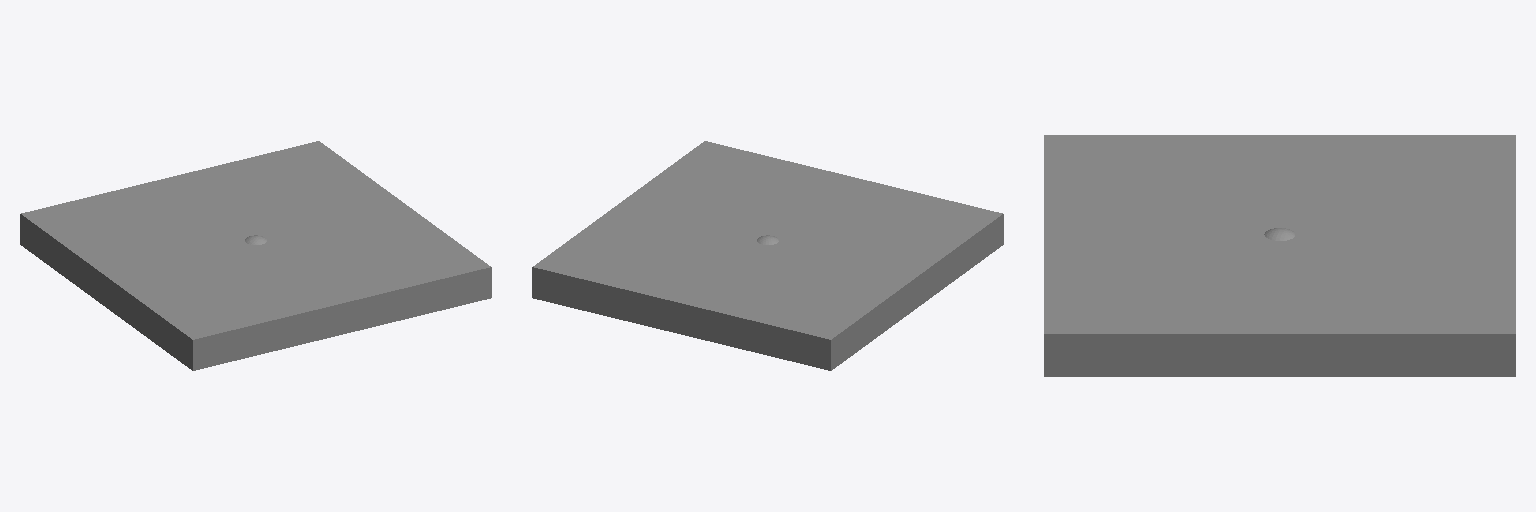
URDF robot description (leaf_v1x10):
<?xml version="1.0" ?>
<!-- =================================================================================== -->
<!-- |    This document was autogenerated by xacro from [local-path]/dev/nyu_finger/workspace/src/catkin/robots/robot_properties/robot_properties_fingers/xacro/edu/fingeredu.urdf.xacro | -->
<!-- |    EDITING THIS FILE BY HAND IS NOT RECOMMENDED                                 | -->
<!-- =================================================================================== -->
<robot name="leaf_v1x10" xmlns:xacro="https://ei.is.tuebingen.mpg.de/xacro">
  <material name="fingeredu_material">
    <color rgba="0.6 0.6 0.6 1.0"/>
  </material>
  <link name="base_link">
    <visual>
      <origin rpy="0 0 0" xyz="0 0 0"/>
      <geometry>
        <mesh filename="package://example-robot-data/robots/guesss_description/meshes/spherex30.obj" scale="1 1 1"/>
      </geometry>
      <material name="fingeredu_material"/>
    </visual>
    <collision>
      <origin rpy="0 0 0" xyz="0 0 0"/>
      <geometry>
        <mesh filename="package://example-robot-data/robots/guesss_description/meshes/spherex30.obj" scale="1 1 1"/>
      </geometry>
    </collision>
    <inertial>
      <origin rpy="0 0 0" xyz="0 0 0"/>
      <mass value="1.1637e3"/>
      <inertia ixx="2.79e2" ixy="0." ixz="0." iyy="2.79e2" iyz="0." izz="2.79e2"/>
    </inertial>
  </link>
  <link name="small_fish">
    <visual>
      <origin rpy="0 0 0" xyz="0 0 0"/>
      <geometry>
        <mesh filename="package://example-robot-data/robots/guesss_description/meshes/ellipse_10.obj" scale="1 1 1"/>
      </geometry>
      <material name="fingeredu_material"/>
    </visual>
    <collision>
      <origin rpy="0 0 0" xyz="0 0 0"/>
      <geometry>
        <mesh filename="package://example-robot-data/robots/guesss_description/meshes/ellipse_10.obj" scale="1 1 1"/>
      </geometry>
    </collision>
    <inertial>
      <origin rpy="0 0 0" xyz="0 0 0"/>
      <mass value="6.47"/>
      <inertia ixx="7.06e-2" ixy="0." ixz="0." iyy="1.36e-1" iyz="0." izz="7.06e-2"/>
    </inertial>
  </link>
  <link name="floor">
    <visual>
      <origin rpy="0 0 0" xyz="0 0 0"/>
      <geometry>
        <mesh filename="package://example-robot-data/robots/guesss_description/meshes/floor_v0x10.obj" scale="1 1 1"/>
      </geometry>
      <material name="fingeredu_material"/>
    </visual>
    <collision>
      <origin rpy="0 0 0" xyz="0 0 0"/>
      <geometry>
        <mesh filename="package://example-robot-data/robots/guesss_description/meshes/floor_v0x10.obj" scale="1 1 1"/>
      </geometry>
    </collision>
    <inertial>
      <origin rpy="0 0 0" xyz="0 0 0"/>
      <mass value="1"/>
      <inertia ixx="5" ixy="0." ixz="0." iyy="5" iyz="0." izz="5"/>
    </inertial>
  </link>
  <joint name="joint1" type="revolute">
    <parent link="base_link"/>
    <child link="small_fish"/>
    <!-- <limit effort="1000" lower="-1.5" upper="1.5" velocity="1000"/> -->
    <limit effort="1000" lower="-3.14159265359" upper="3.14159265359" velocity="1000"/>
    <axis xyz="1 0 0"/>
    <origin rpy="0 0 0" xyz="0 0 0"/>
  </joint>
  <joint name="joint2" type="revolute">
    <parent link="small_fish"/>
    <child link="floor"/>
    <!-- <limit effort="1000" lower="-1.5" upper="1.5" velocity="1000"/> -->
    <limit effort="1000" lower="-3.14159265359" upper="3.14159265359" velocity="1000"/>
    <axis xyz="1 0 0"/>
    <origin rpy="0 0 0" xyz="0 0 0"/>
  </joint>
</robot>

--- What the picture shows (computed from the rendered views, not written in the file) ---
Views: 3 orthographic renders of the robot side by side, from view 1: azimuth 30°, elevation 25°; view 2: azimuth 150°, elevation 25°; view 3: azimuth 270°, elevation 25°.
Robot: leaf_v1x10 — 3 links, 2 joints (2 revolute); root link base_link; default pose: every joint at zero.
Visible links, largest first — view 1: floor; view 2: floor; view 3: floor.
Link boxes in pixels (x1,y1,x2,y2): floor: (20,141,491,370); floor: (532,141,1003,370); floor: (1044,135,1515,376).
Bounding box of the posed robot: 10 × 10 × 1.2 m (x, y, z).
Meshes: 3 distinct files referenced, 3 mesh visuals loaded (3 OBJ).
